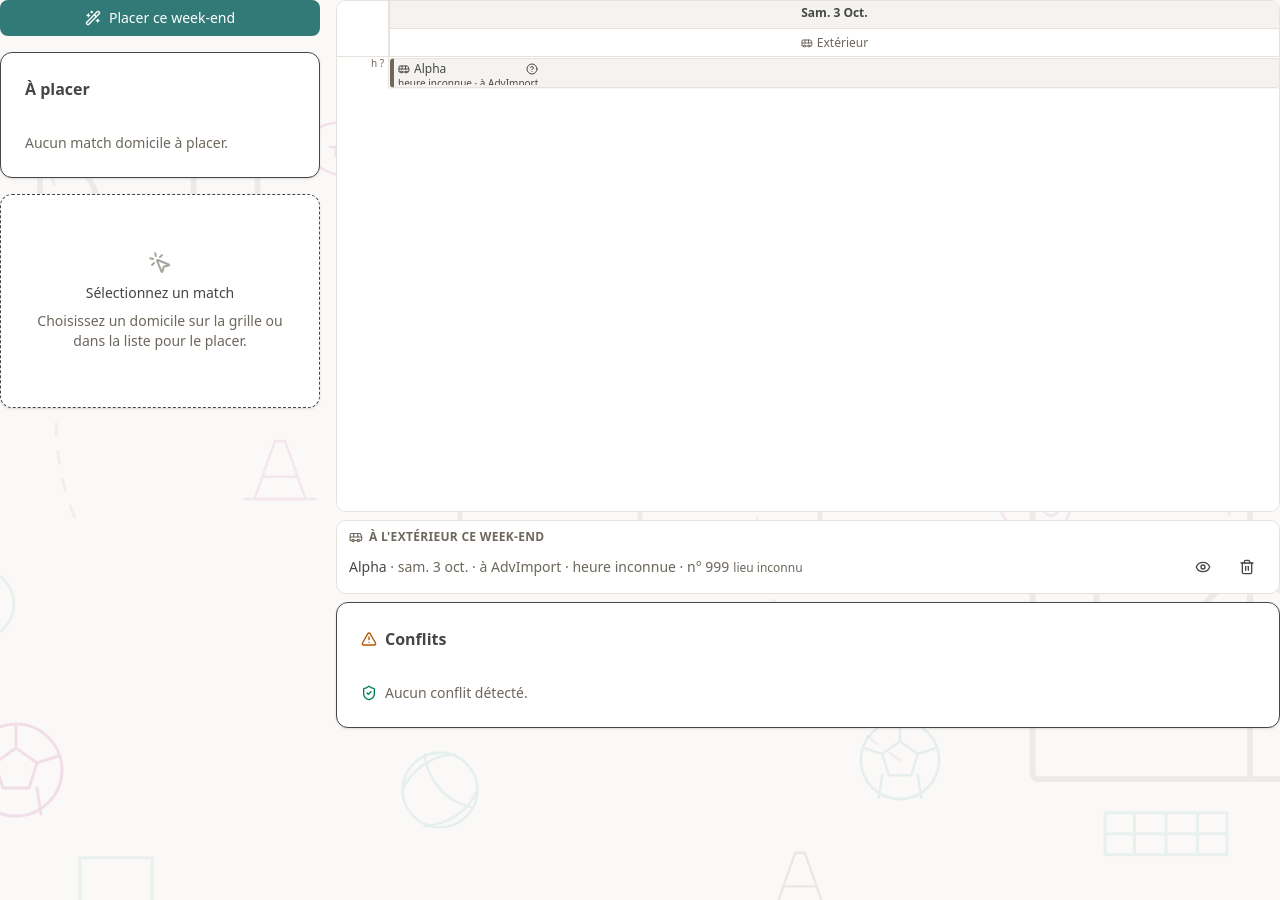
Test: WeekWorkbench — crayon de la bande extérieurs (correctif 3b) › bande : extérieur IMPORTÉ → « Voir » ouvre la fiche LECTURE SEULE, jamais l'édition
The width and height of the screenshot is (1280, 900).
Le bouton de la BANDE (pas la cellule de grille) : son libellé dit « Voir », l'action ouvre la fiche.
What coordinates should you click on to do the following:
click the button named "Voir le match contre AdvImport"
I would click on:
 (1203, 567)
Its box is [1183, 549, 1223, 585].
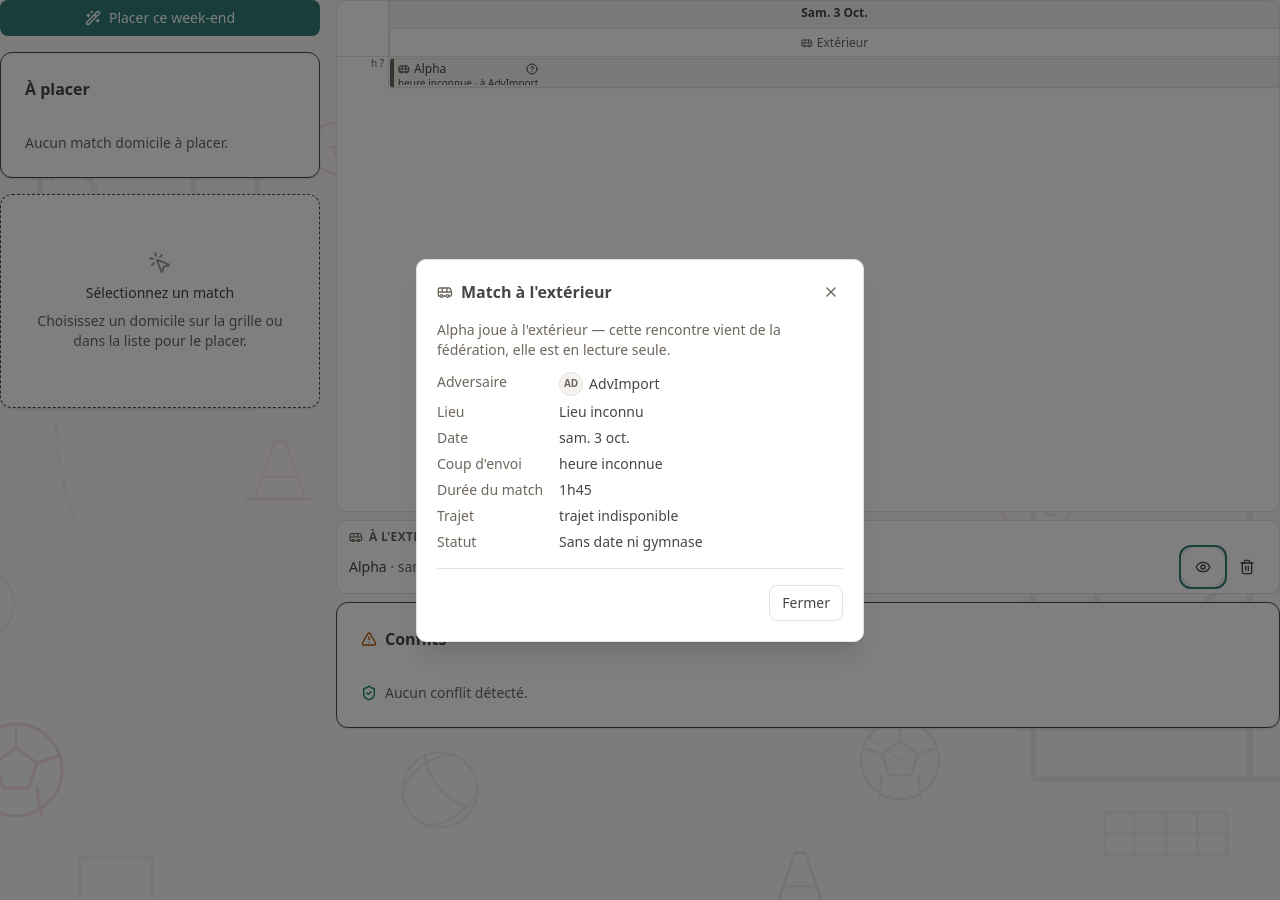
Expected: the text "Match à l'extérieur" is shown, [437, 280, 612, 304]
